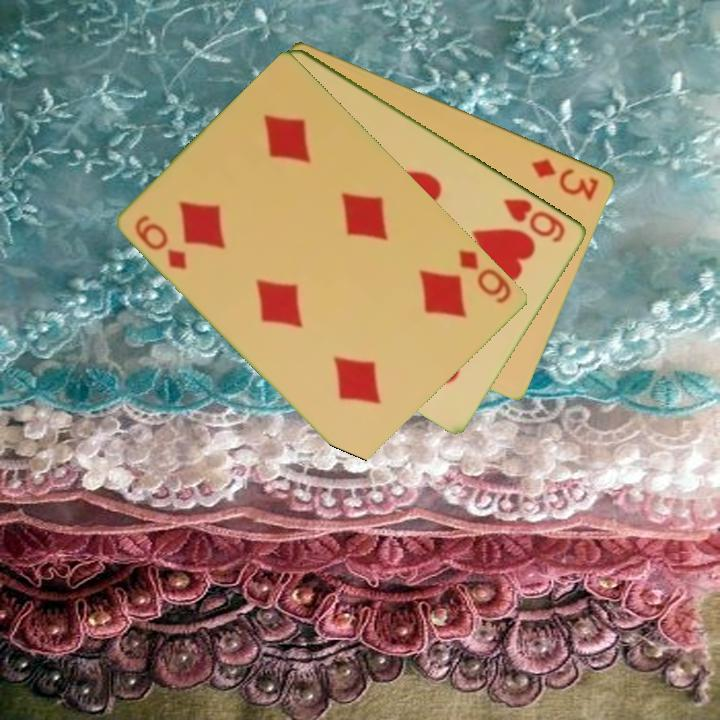3d: (528, 155, 602, 204)
6d: (131, 211, 191, 273), (455, 246, 515, 307)
6h: (500, 194, 569, 246)
